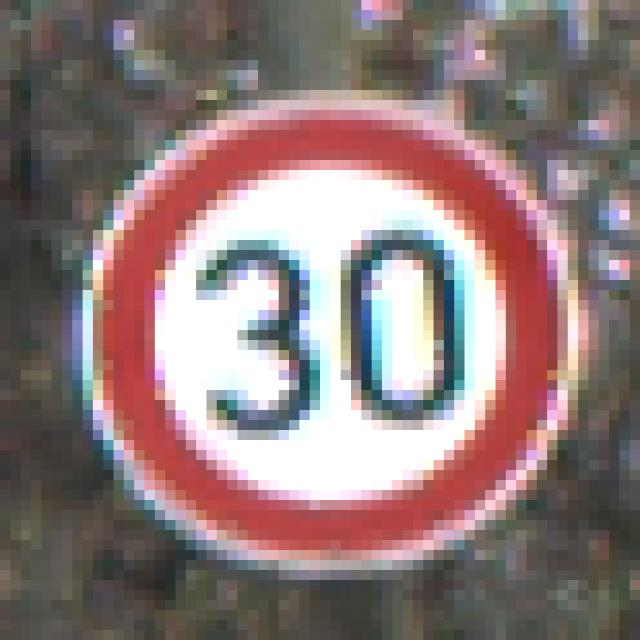Speed Limit -30-: (46, 60, 573, 570)
